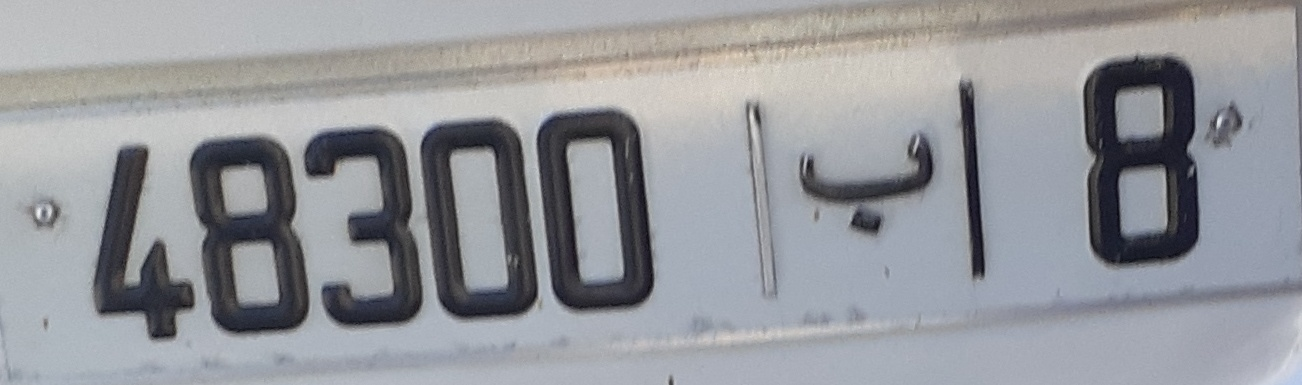0: (411, 112, 544, 328), (531, 104, 660, 319)
3: (301, 118, 431, 336)
4: (81, 138, 195, 345)
8: (1078, 46, 1210, 267), (183, 130, 313, 345)
b: (785, 127, 943, 247)
